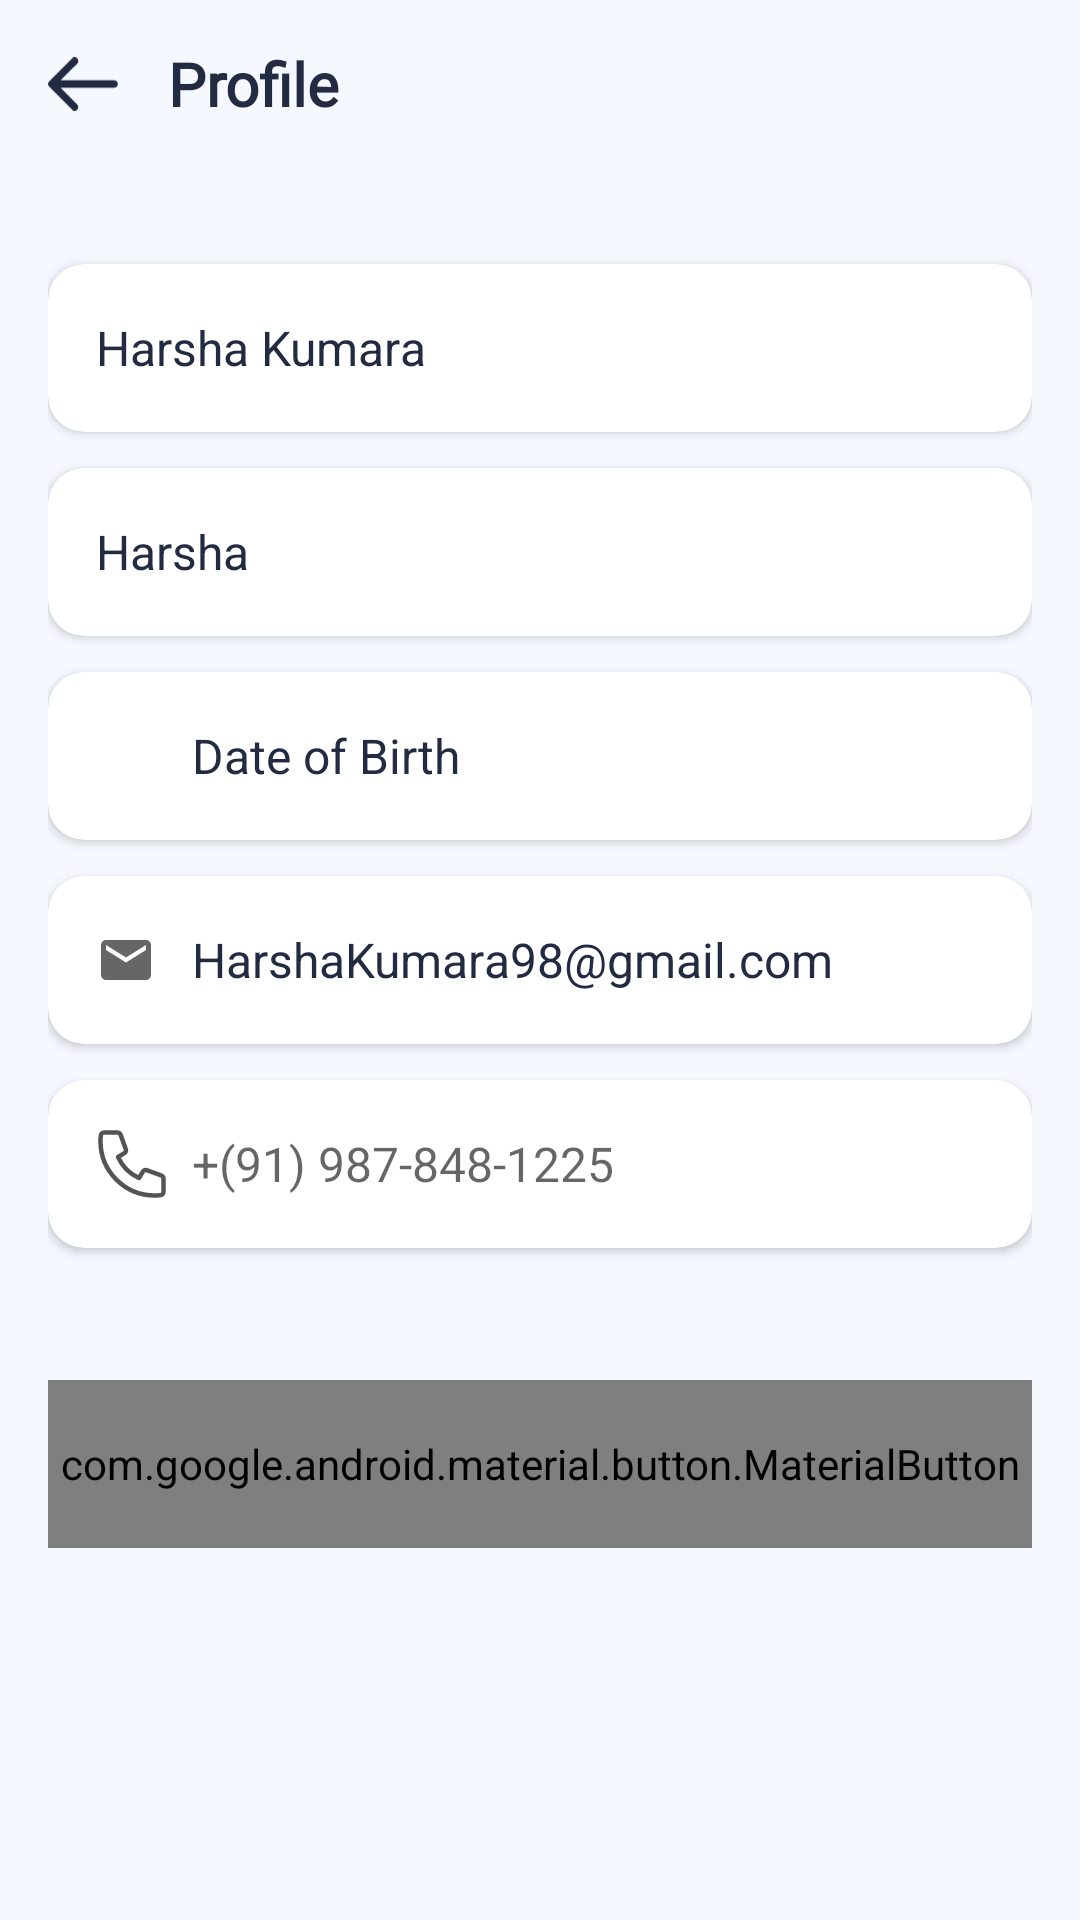

Screen size 1080×1920. Icon name, then its center in pixels as (x,y):
Back: (83,84)
email: (126,960)
phone: (132,1164)
